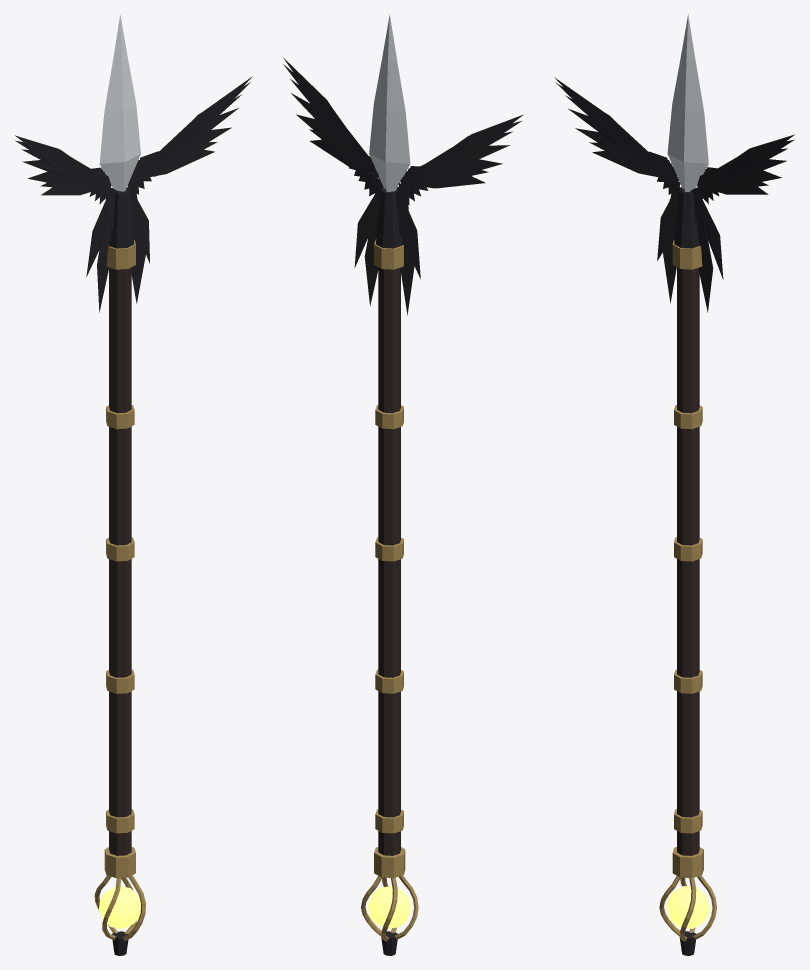
The model's file is Gungnir.fbx.
3 renders of one model, left to right at view 1: azimuth 30°, elevation 25°; view 2: azimuth 150°, elevation 25°; view 3: azimuth 330°, elevation 25°, orthographic.
Visible parts, largest first — view 1: Gungnir_Shaft, Gungnir_WingR, Gungnir_WingL, Gungnir_Blade, Gungnir_Crystal, Gungnir_Socket, Gungnir_CollarBot, Gungnir_CollarTop, Gungnir_Band1; view 2: Gungnir_Shaft, Gungnir_WingL, Gungnir_WingR, Gungnir_Blade, Gungnir_Crystal, Gungnir_Socket, Gungnir_CollarBot, Gungnir_CollarTop; view 3: Gungnir_Shaft, Gungnir_WingL, Gungnir_WingR, Gungnir_Blade, Gungnir_Crystal, Gungnir_Socket, Gungnir_CollarBot, Gungnir_CollarTop.
Boxes of the visible parts, x1,y1,x2,y2 form: Gungnir_Shaft: (109, 267, 131, 855); Gungnir_WingR: (126, 76, 252, 303); Gungnir_WingL: (15, 135, 118, 312); Gungnir_Blade: (99, 15, 140, 191); Gungnir_Crystal: (98, 886, 140, 929); Gungnir_Socket: (109, 187, 134, 248); Gungnir_CollarBot: (104, 847, 135, 877); Gungnir_CollarTop: (106, 240, 135, 269); Gungnir_Band1: (106, 669, 134, 693); Gungnir_Shaft: (378, 267, 400, 855); Gungnir_WingL: (395, 114, 523, 315); Gungnir_WingR: (283, 57, 383, 306); Gungnir_Blade: (369, 14, 410, 191); Gungnir_Crystal: (368, 885, 411, 928); Gungnir_Socket: (376, 187, 402, 248); Gungnir_CollarBot: (374, 847, 405, 877); Gungnir_CollarTop: (374, 239, 403, 269); Gungnir_Shaft: (677, 267, 699, 855); Gungnir_WingL: (554, 77, 682, 303); Gungnir_WingR: (690, 134, 794, 312); Gungnir_Blade: (667, 14, 708, 191); Gungnir_Crystal: (666, 886, 709, 928); Gungnir_Socket: (674, 187, 699, 248); Gungnir_CollarBot: (672, 847, 703, 877); Gungnir_CollarTop: (672, 240, 702, 269).
Bounding box in the file's own units: 61.65 × 230 × 12.18.
